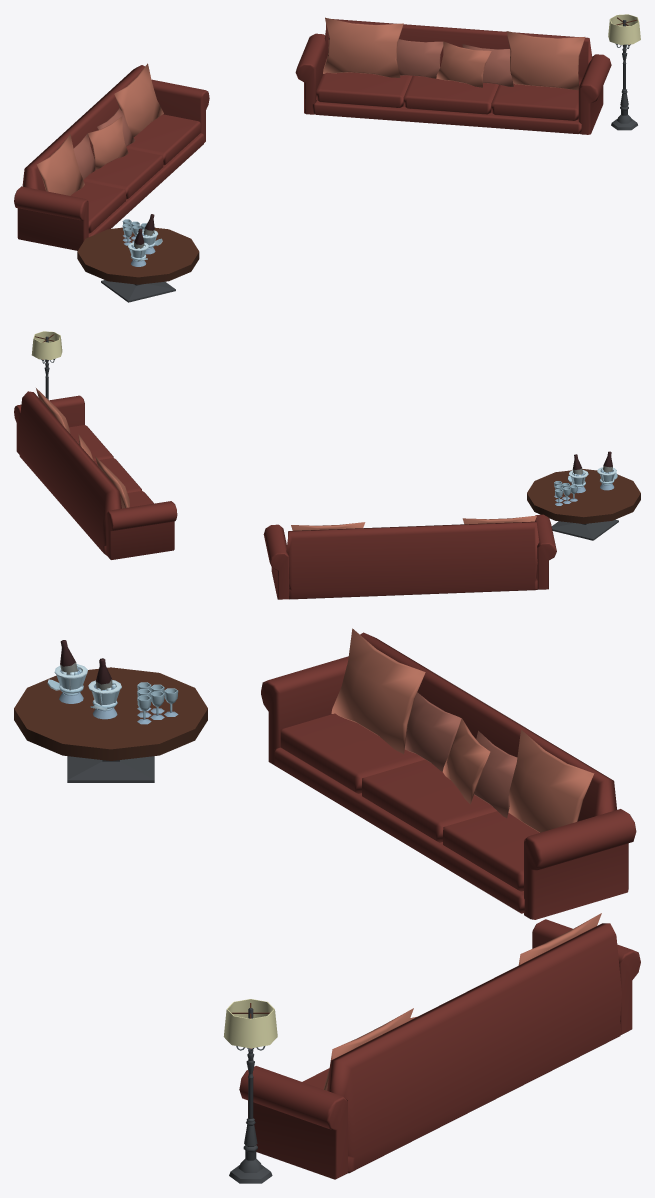
The model's file is SM_GameArea_Sofa_02.fbx.
The picture shows the model from 3 angles, top to bottom: view 1: azimuth 30°, elevation 25°; view 2: azimuth 150°, elevation 25°; view 3: azimuth 270°, elevation 25°; orthographic projection. The views are drawn at different scales.
Visible parts, largest first — view 1: SM_GameArea_Sofa_02; view 2: SM_GameArea_Sofa_02; view 3: SM_GameArea_Sofa_02.
Boxes of the visible parts, left/top/right/bottom form: SM_GameArea_Sofa_02: left=14, top=14, right=640, bottom=302; SM_GameArea_Sofa_02: left=14, top=331, right=640, bottom=599; SM_GameArea_Sofa_02: left=14, top=628, right=640, bottom=1183.
Size of what is drawn, in the model's own units: 32.47 by 5.48 by 18.55.
